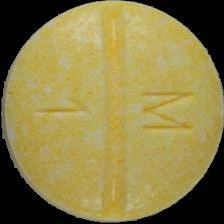55289-924: (0, 0, 224, 224)
